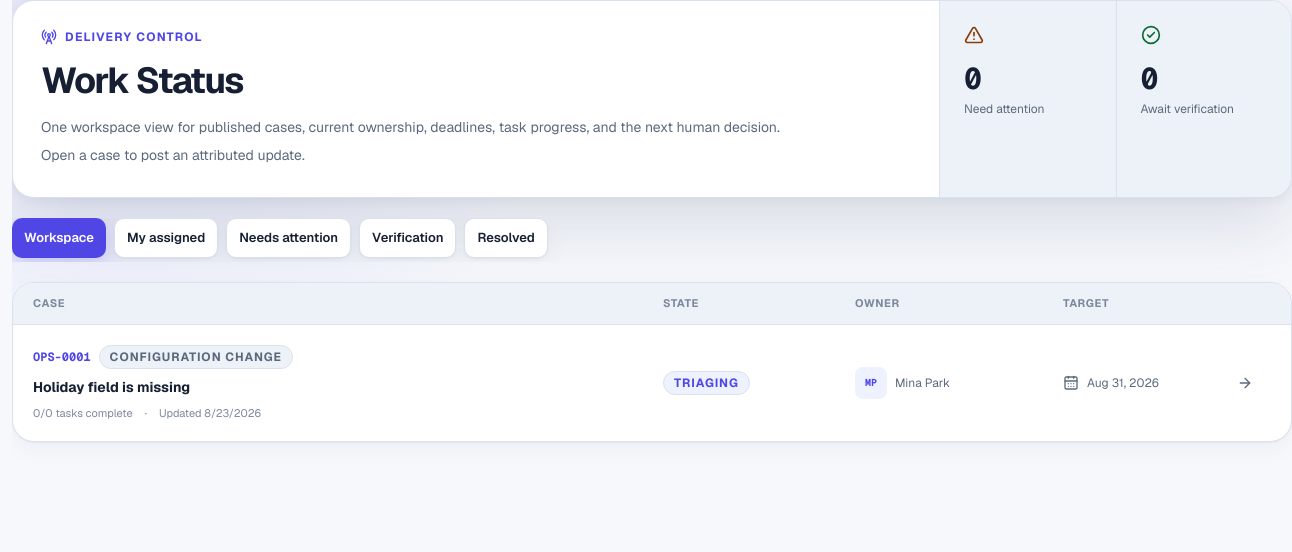
Work Status › shows published case delivery and filters the workspace view
Expected: the heading "Work Status" is shown, [41,57,243,104]
Expected: the link "Holiday field is missing" is shown, [33,378,190,396]
Click the tab "Verification". click: x=408, y=238
box: [359,218,456,258]
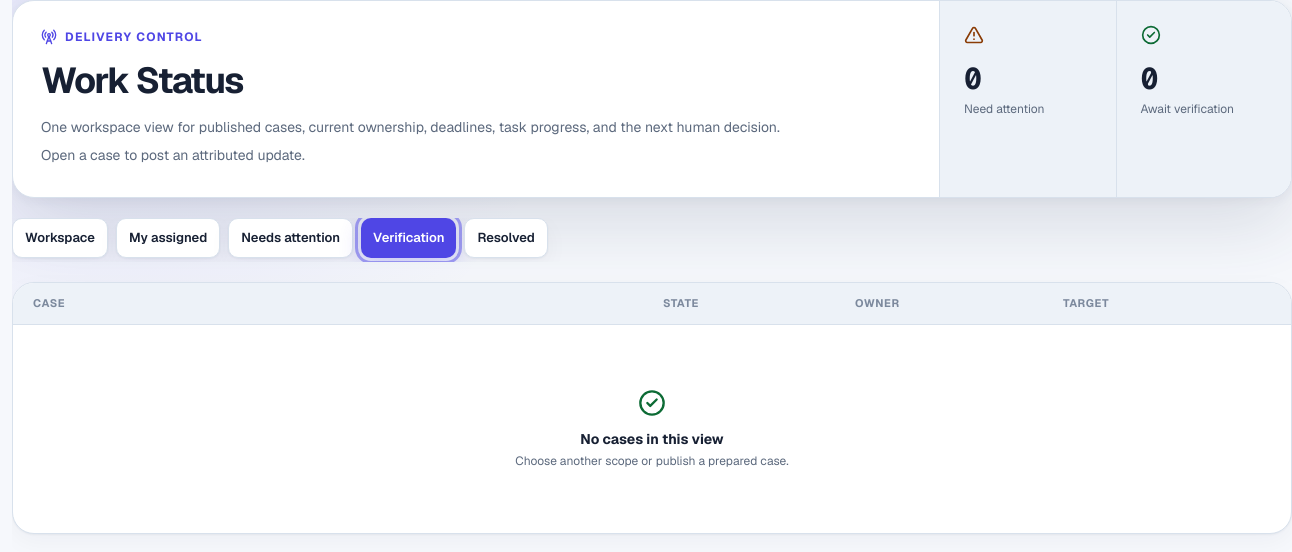
Expected: the text "No cases in this view" is shown, [580,430,724,448]
